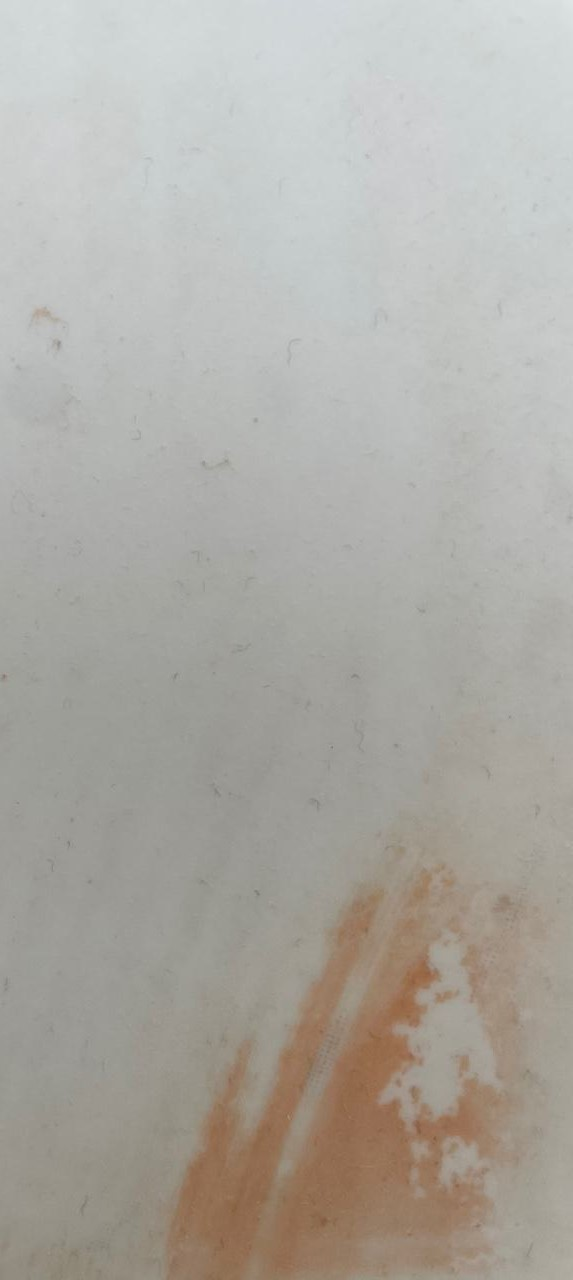Corrosion: (159, 837, 522, 1280)
